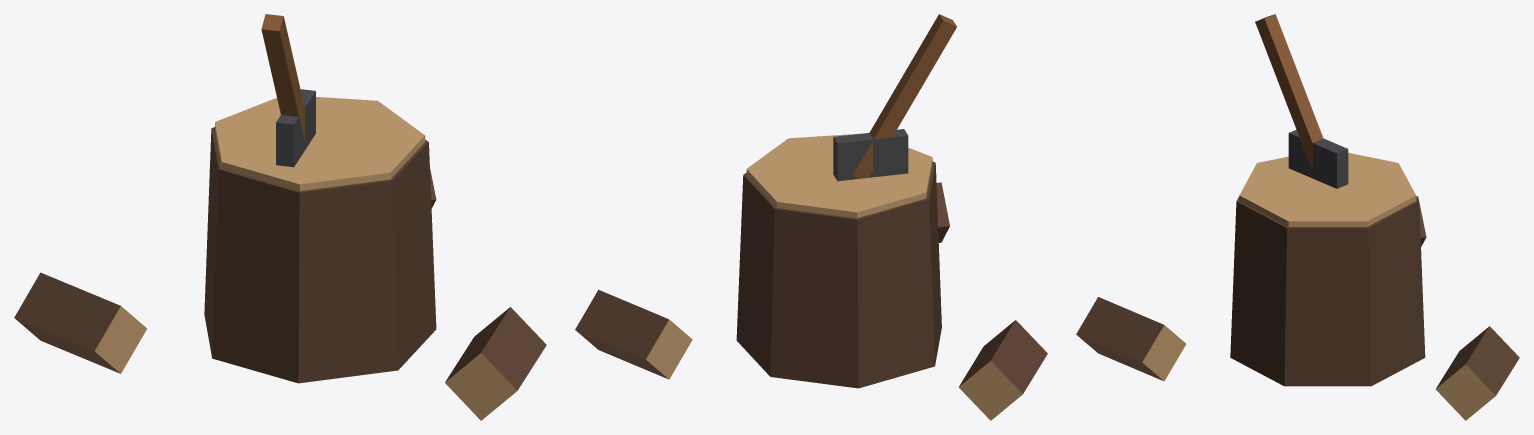
File: Dorf_Holzhackklotz.fbx
3 renders of one model, left to right at view 1: azimuth 30°, elevation 25°; view 2: azimuth 150°, elevation 25°; view 3: azimuth 270°, elevation 25°, orthographic. The views are drawn at different scales.
Parts seen in each view (by area): view 1: Dorf_Holzhackklotz; view 2: Dorf_Holzhackklotz; view 3: Dorf_Holzhackklotz.
Part boxes in pixels (x1=…): Dorf_Holzhackklotz: x1=14, y1=14, x2=546, y2=420; Dorf_Holzhackklotz: x1=575, y1=14, x2=1047, y2=420; Dorf_Holzhackklotz: x1=1076, y1=14, x2=1519, y2=420.
Bounding box in the file's own units: 1.4 × 1.06 × 1.42.
